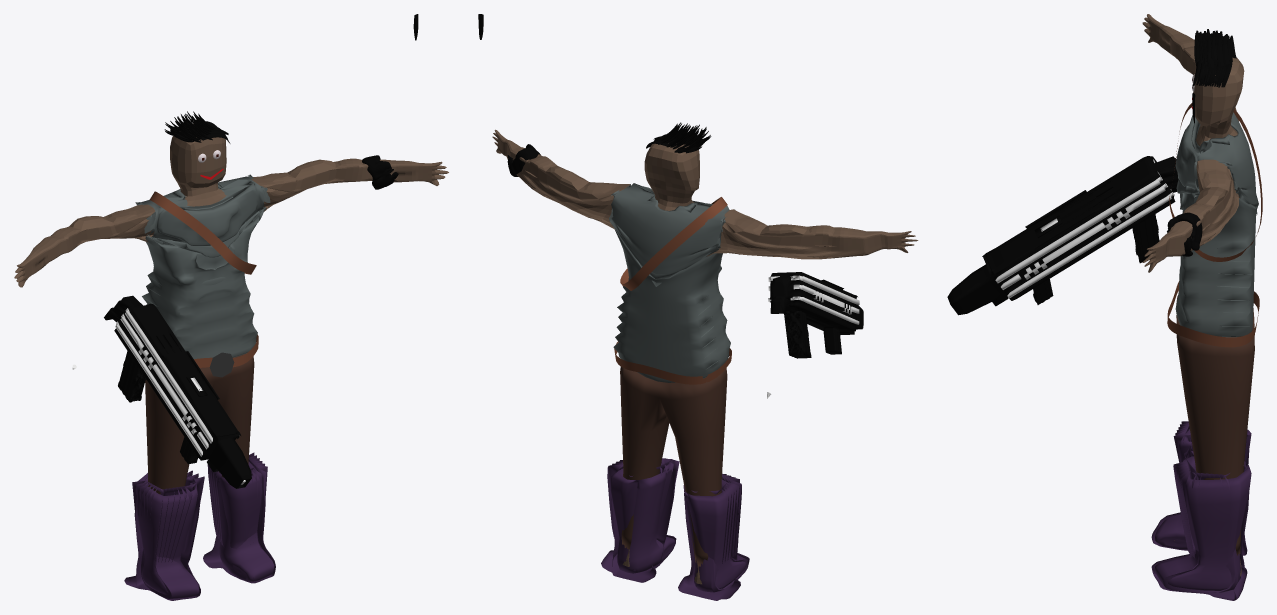
The model's file is hrdina_budoucnost.fbx.
3 views of the same model, side by side, from view 1: azimuth 30°, elevation 25°; view 2: azimuth 150°, elevation 25°; view 3: azimuth 270°, elevation 25° (orthographic). The views are drawn at different scales.
Visible parts, largest first — view 1: tričko, boty, Cube.003, Cube, kalhoty, BezierCircle.002, Cube.002; view 2: tričko, Cube, boty, kalhoty, Cube.003, BezierCircle.002, BezierCircle.001; view 3: Cube.003, tričko, boty, kalhoty, Cube, BezierCircle.001, BezierCircle.002, Cube.002.
Part boxes in pixels (x1=…): tričko: x1=135, y1=174, x2=270, y2=358; boty: x1=124, y1=452, x2=275, y2=600; Cube.003: x1=104, y1=295, x2=251, y2=488; Cube: x1=14, y1=123, x2=448, y2=356; kalhoty: x1=145, y1=353, x2=254, y2=494; BezierCircle.002: x1=149, y1=191, x2=256, y2=274; Cube.002: x1=362, y1=155, x2=398, y2=189; tričko: x1=609, y1=183, x2=734, y2=382; Cube: x1=492, y1=129, x2=918, y2=584; boty: x1=601, y1=458, x2=749, y2=600; kalhoty: x1=620, y1=366, x2=727, y2=566; Cube.003: x1=768, y1=272, x2=863, y2=358; BezierCircle.002: x1=620, y1=197, x2=727, y2=290; BezierCircle.001: x1=614, y1=341, x2=731, y2=384; Cube.003: x1=947, y1=156, x2=1178, y2=315; tričko: x1=1175, y1=112, x2=1258, y2=337; boty: x1=1151, y1=421, x2=1251, y2=600; kalhoty: x1=1176, y1=296, x2=1254, y2=555; Cube: x1=1142, y1=14, x2=1244, y2=576; BezierCircle.001: x1=1167, y1=281, x2=1259, y2=347; BezierCircle.002: x1=1169, y1=103, x2=1262, y2=261; Cube.002: x1=1167, y1=212, x2=1202, y2=256.
Size of the model in its own units: 344 by 394 by 190.
